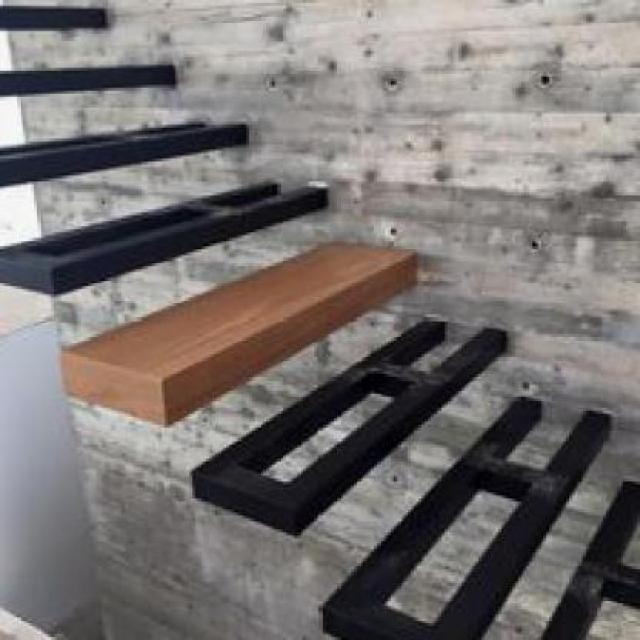stair: (3, 0, 638, 638)
